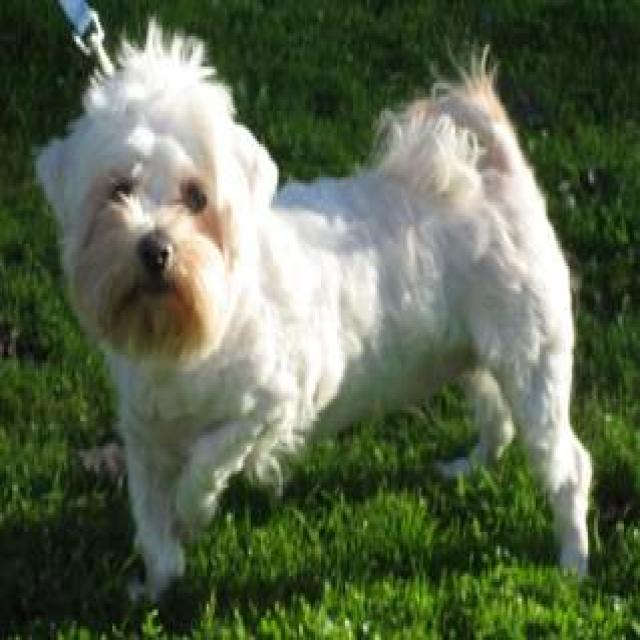dog: (32, 14, 594, 609)
